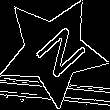N_SW: (21, 19, 85, 83)
